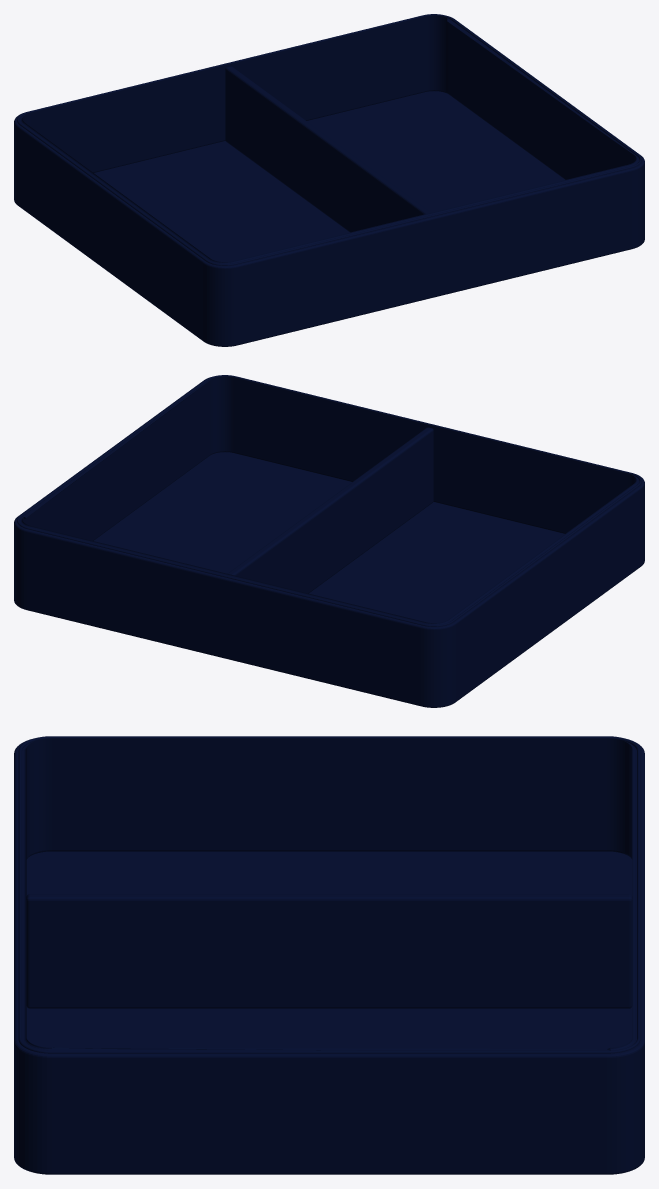
The model's file is two-panel-lotock.obj.
3 renders of one model, top to bottom at view 1: azimuth 30°, elevation 25°; view 2: azimuth 150°, elevation 25°; view 3: azimuth 270°, elevation 25°, orthographic. The views are drawn at different scales.
Visible parts, largest first — view 1: Лоток_2_секции_корпус, Лоток_2_секции_перегородка, Лоток_2_секции_верхняя_кромка; view 2: Лоток_2_секции_корпус, Лоток_2_секции_перегородка, Лоток_2_секции_верхняя_кромка; view 3: Лоток_2_секции_корпус, Лоток_2_секции_перегородка, Лоток_2_секции_верхняя_кромка.
Part boxes in pixels (left/top/right/bottom): Лоток_2_секции_корпус: left=14, top=15, right=644, bottom=346; Лоток_2_секции_перегородка: left=225, top=66, right=430, bottom=232; Лоток_2_секции_верхняя_кромка: left=17, top=14, right=641, bottom=265; Лоток_2_секции_корпус: left=14, top=376, right=644, bottom=707; Лоток_2_секции_перегородка: left=228, top=427, right=433, bottom=593; Лоток_2_секции_верхняя_кромка: left=17, top=375, right=641, bottom=626; Лоток_2_секции_корпус: left=14, top=738, right=644, bottom=1174; Лоток_2_секции_перегородка: left=26, top=894, right=632, bottom=1008; Лоток_2_секции_верхняя_кромка: left=18, top=736, right=640, bottom=1053.
Bounding box in the file's own units: 0.24 × 0.0428 × 0.2.
